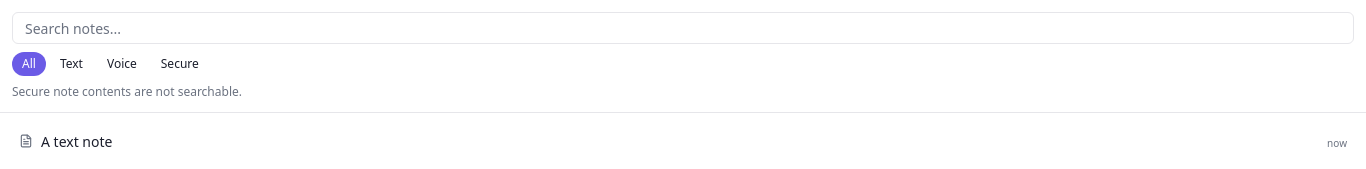
Test: NoteList — empty states › shows "No notes match" when a type filter returns empty results
expect the text "A text note" is shown: met, box left=41, top=132, right=112, bottom=152
Click the button "Secure" at (180, 64), box left=151, top=52, right=209, bottom=76
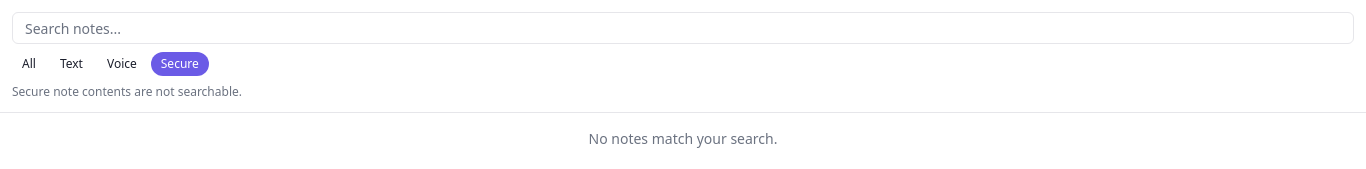
expect the text "No notes match your search." is shown: met, box left=588, top=129, right=778, bottom=148
